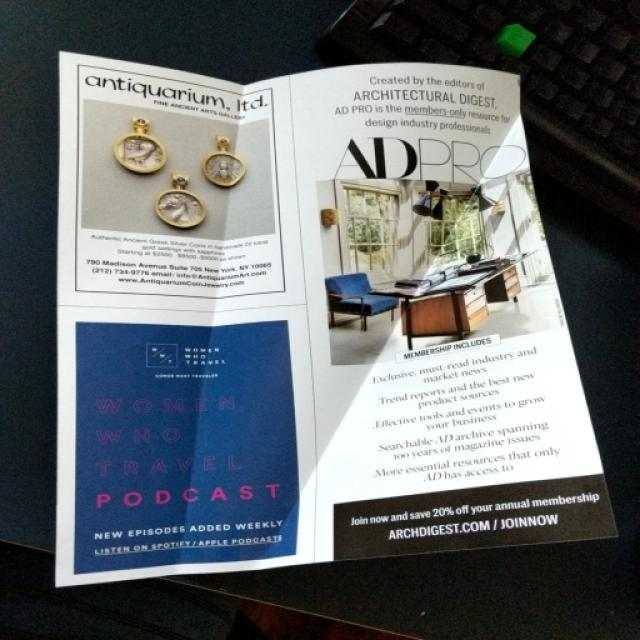document: (58, 52, 616, 585)
